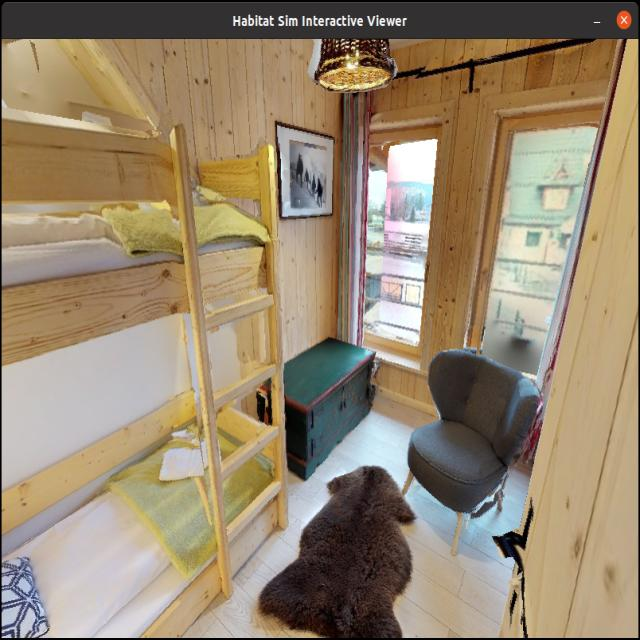sofa: (404, 346, 534, 551)
